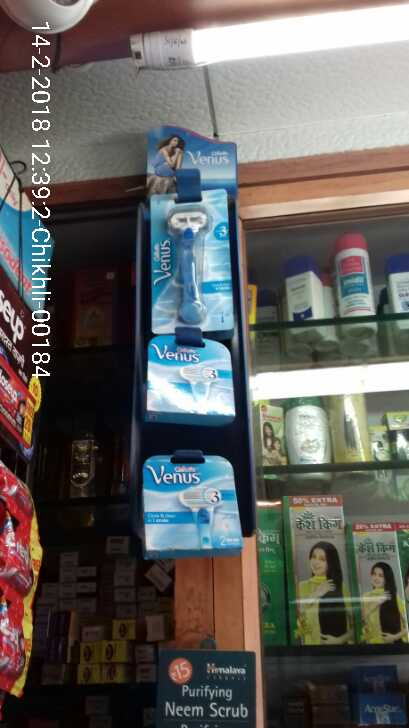venus: (141, 452, 245, 558), (153, 193, 230, 331), (141, 336, 242, 422)
